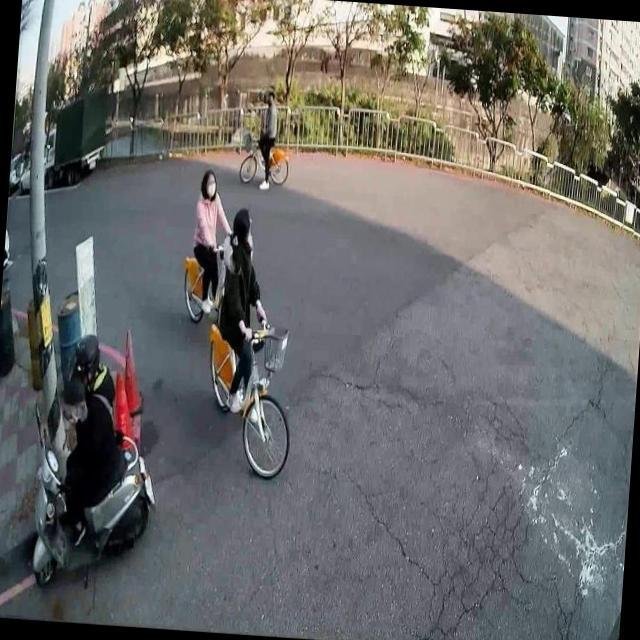person: (49, 324, 125, 552), (208, 200, 276, 417), (182, 162, 237, 316), (248, 81, 284, 196)
